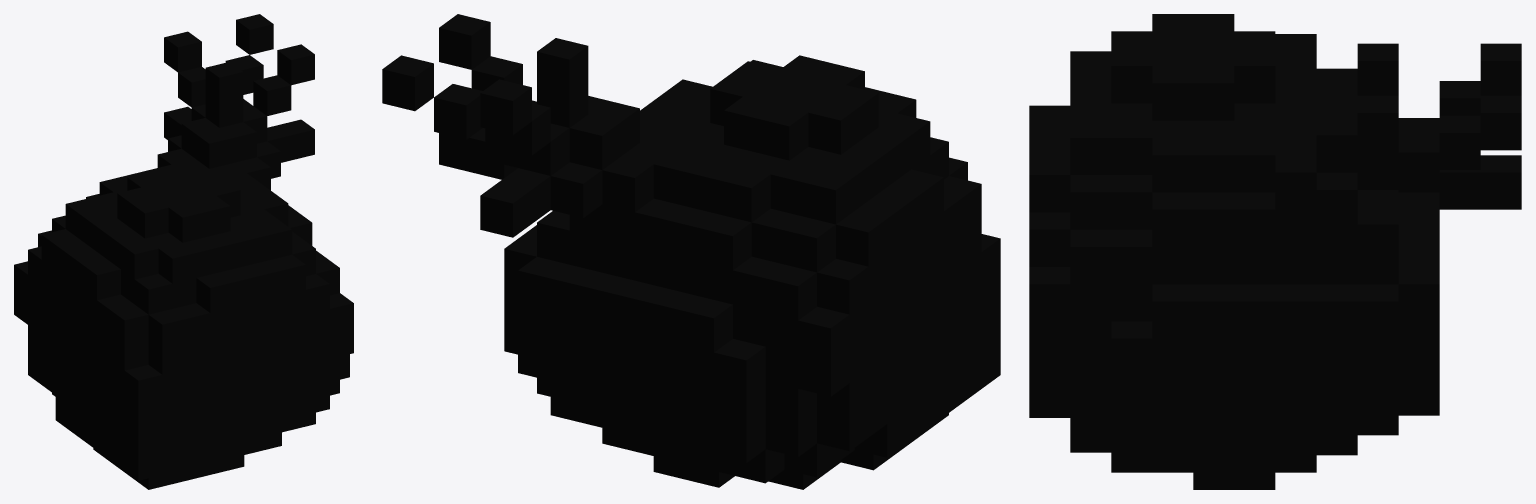
Rendered from Turnip.obj.
3 renders of one model, left to right at view 1: azimuth 30°, elevation 25°; view 2: azimuth 150°, elevation 25°; view 3: azimuth 270°, elevation 25°, orthographic. The views are drawn at different scales.
Parts seen in each view (by area): view 1: Turnip; view 2: Turnip; view 3: Turnip.
Part boxes in pixels (bbox=[...]): Turnip: bbox=[14, 14, 353, 489]; Turnip: bbox=[382, 14, 1000, 489]; Turnip: bbox=[1029, 14, 1521, 489].
Bounding box in the file's own units: 1.2 × 1.2 × 1.2.
